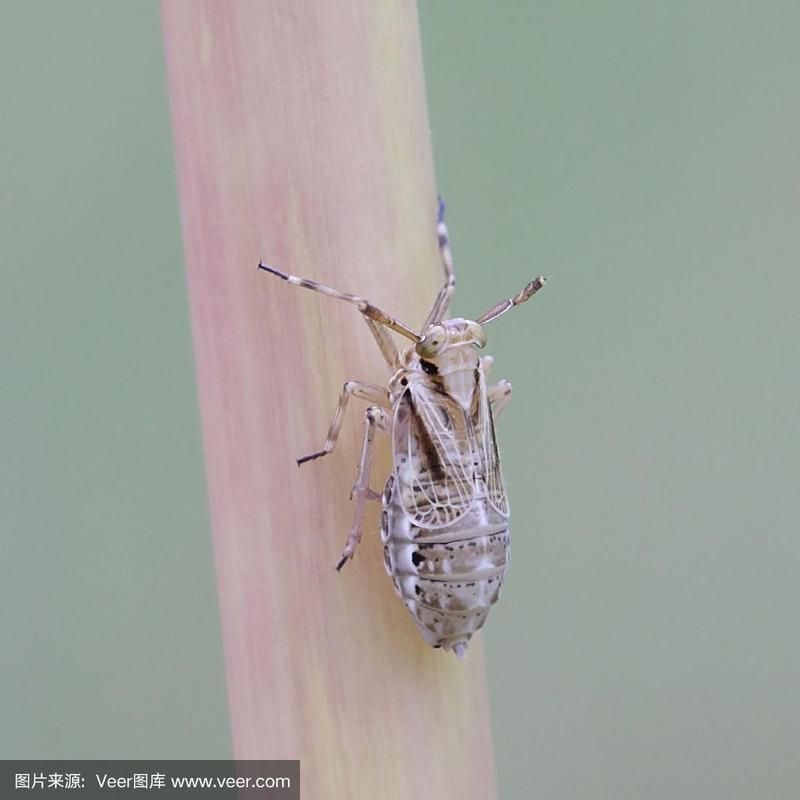Delphacidae: (256, 194, 546, 658)
